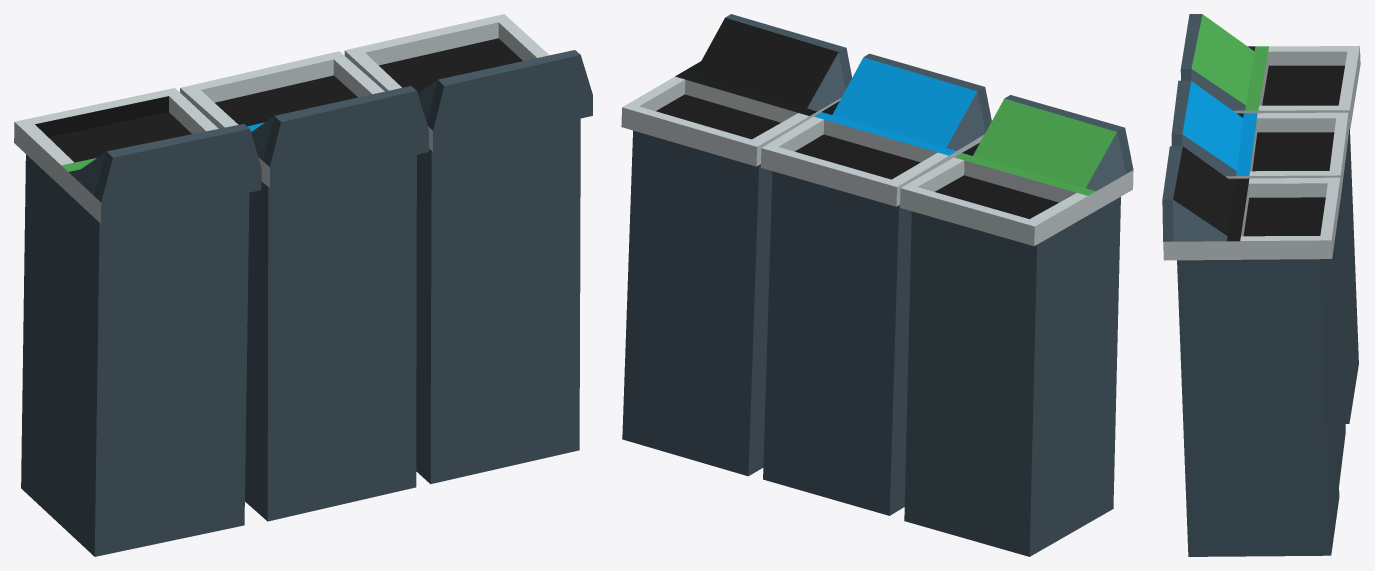
Rendered from Bins.glb.
3 renders of one model, left to right at view 1: azimuth 30°, elevation 25°; view 2: azimuth 150°, elevation 25°; view 3: azimuth 270°, elevation 25°, orthographic. The views are drawn at different scales.
Parts seen in each view (by area): view 1: group529117512; view 2: group529117512; view 3: group529117512.
Part boxes in pixels (box(x1,y1,x2,y2)): group529117512: box(14, 14, 592, 556); group529117512: box(621, 14, 1133, 556); group529117512: box(1162, 14, 1360, 556).
Bounding box in the file's own units: 1.88 × 1.53 × 0.7753.
